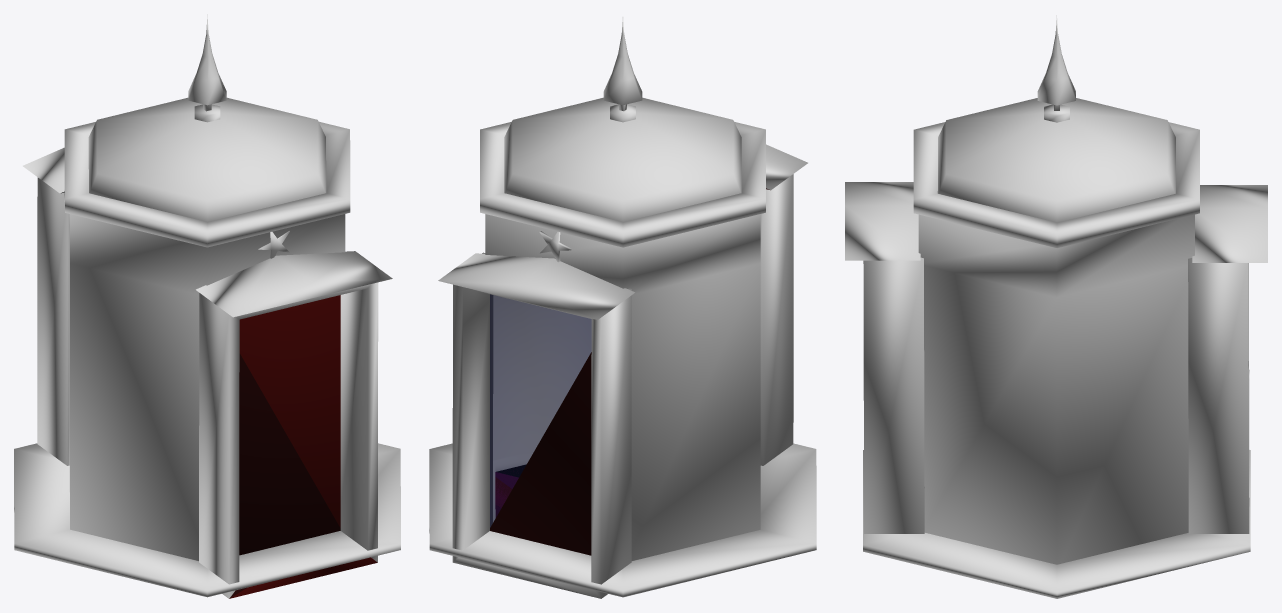
3 views of the same model, side by side, from view 1: azimuth 30°, elevation 25°; view 2: azimuth 150°, elevation 25°; view 3: azimuth 270°, elevation 25° (orthographic).
Size of the model in its own units: 0.7744 by 0.95 by 0.731.
